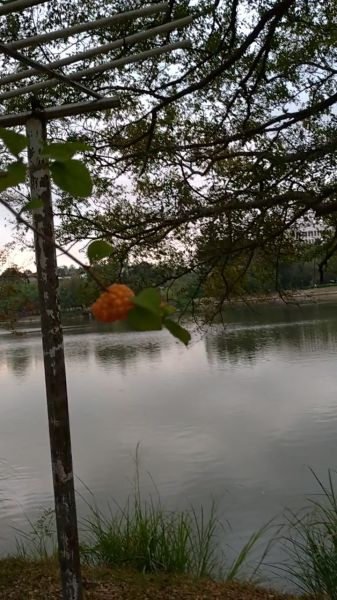eggs: (80, 279, 140, 326)
